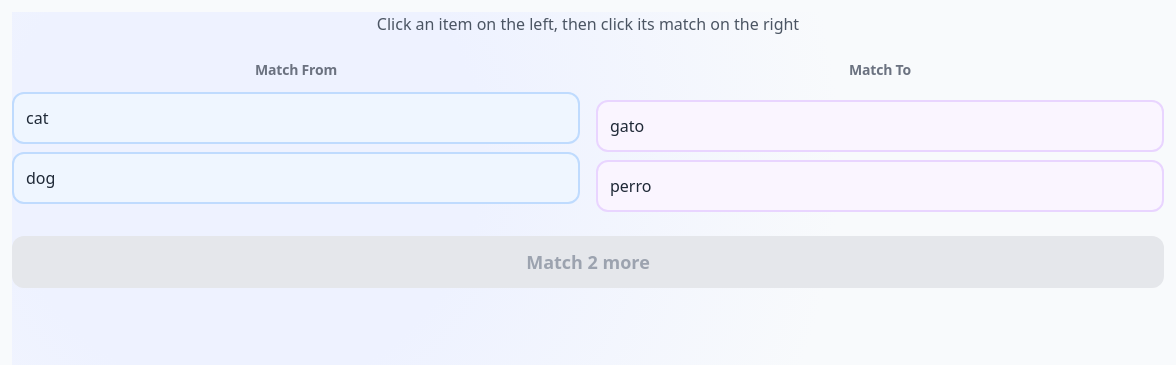
Test case: MatchingQuestion › creates and removes a match without nesting interactive buttons
Click the button "cat" at (37, 118), box top-left (14, 94), bottom-right (578, 142)
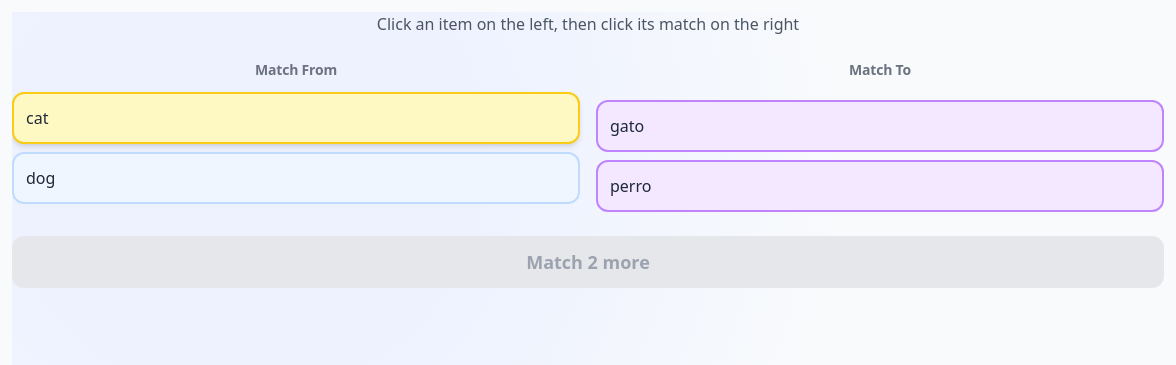
Click the button "gato" at (627, 126), box top-left (596, 100), bottom-right (1164, 152)
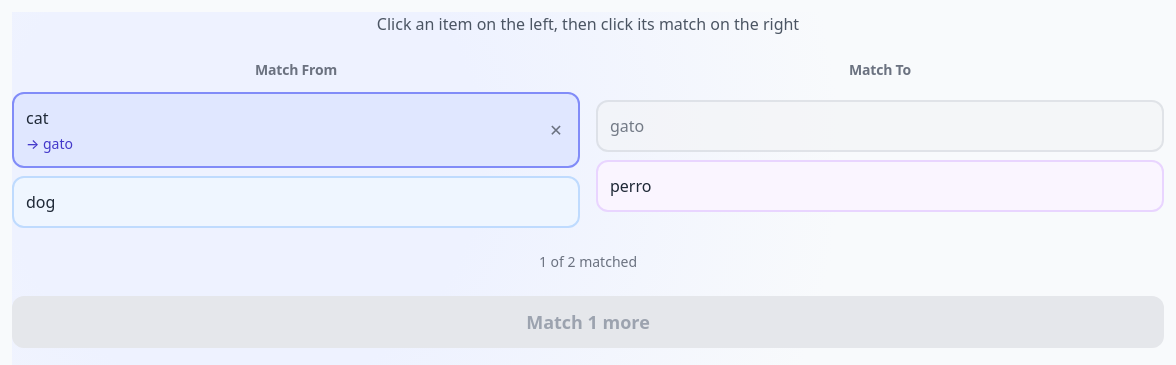
Expected: the text "→ gato" is shown, top-left (26, 134), bottom-right (73, 153)
Click the button named "Remove match for cat" at (556, 130), box top-left (534, 94), bottom-right (578, 166)
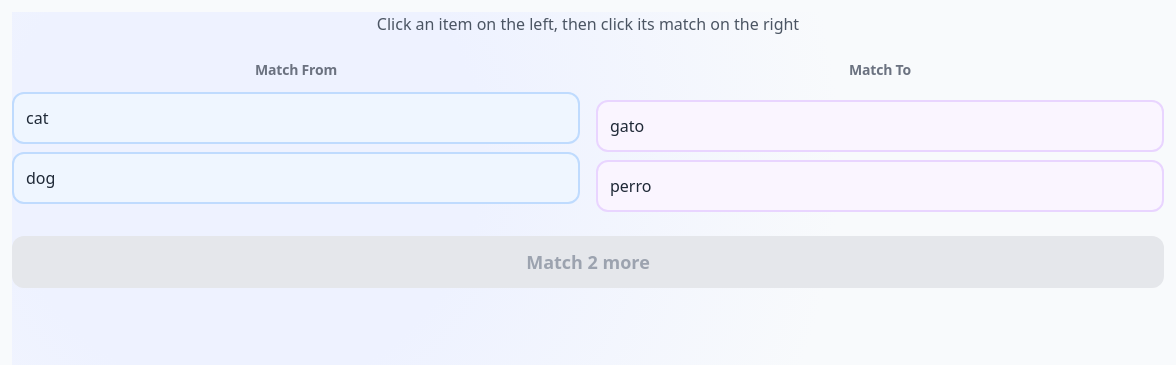
Expected: the text "→ gato" is gone
